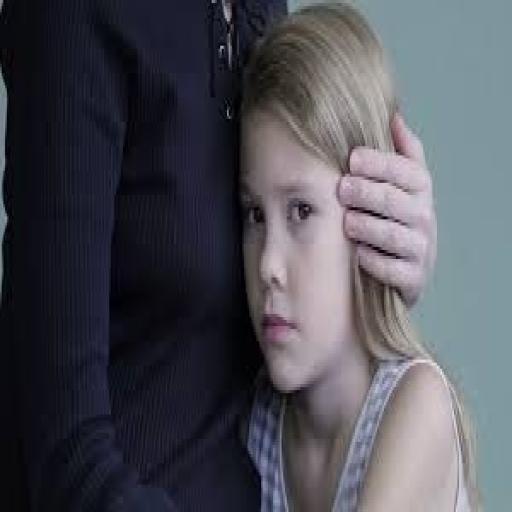hugging: (0, 0, 485, 509)
